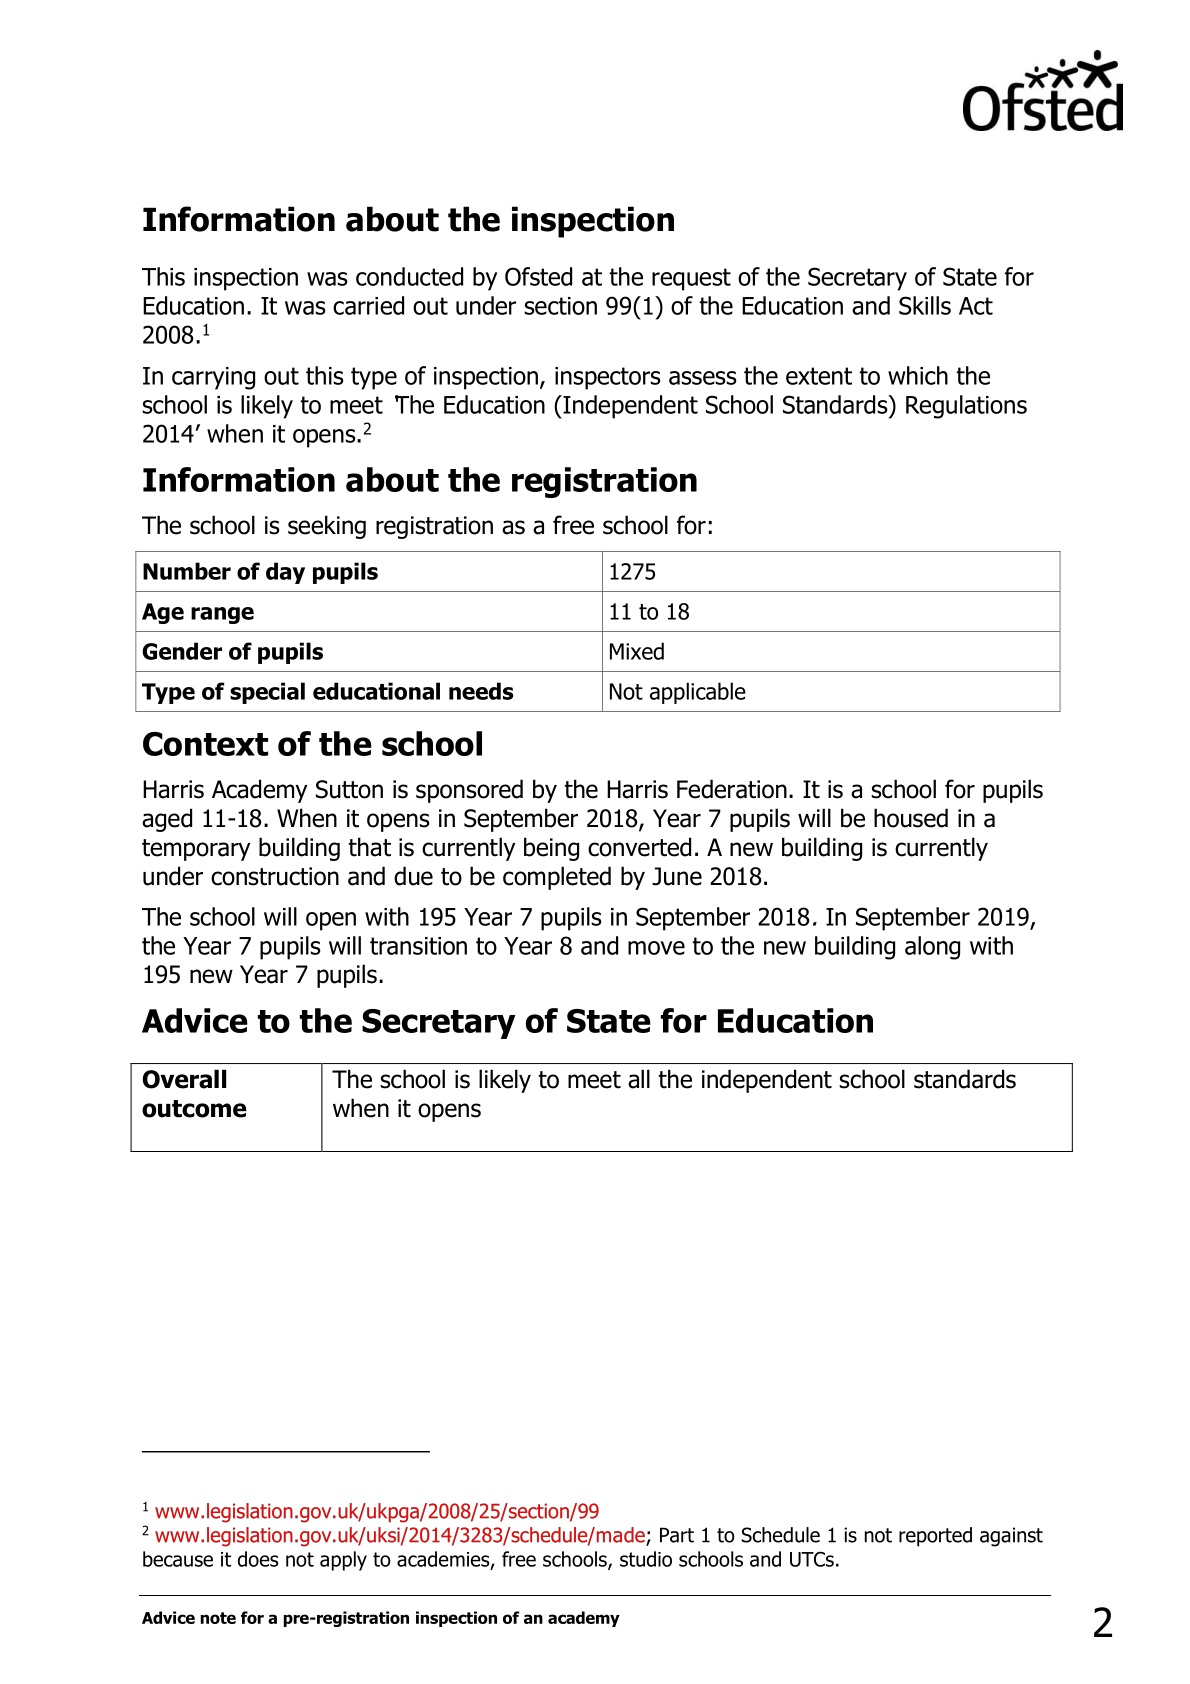full_lined: (135, 548, 1062, 713), (130, 1062, 1074, 1154)
